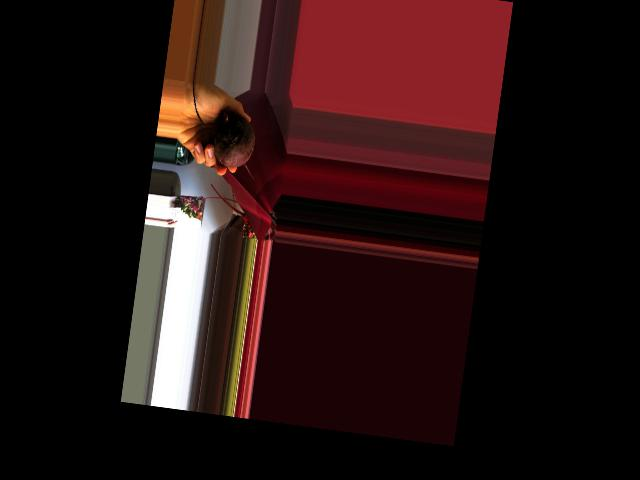beet: (180, 82, 268, 182)
